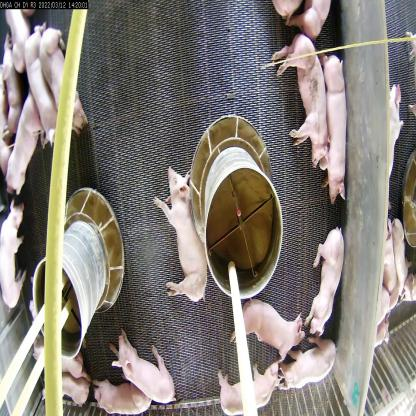Pig: (266, 29, 330, 172), (152, 158, 210, 306), (313, 47, 353, 201), (0, 84, 49, 204), (110, 327, 179, 410), (42, 24, 90, 140), (16, 24, 56, 158), (238, 292, 310, 362), (0, 194, 33, 314), (30, 324, 88, 385), (273, 333, 332, 392), (220, 362, 284, 415), (88, 368, 153, 415), (315, 226, 342, 336), (37, 370, 99, 415)
